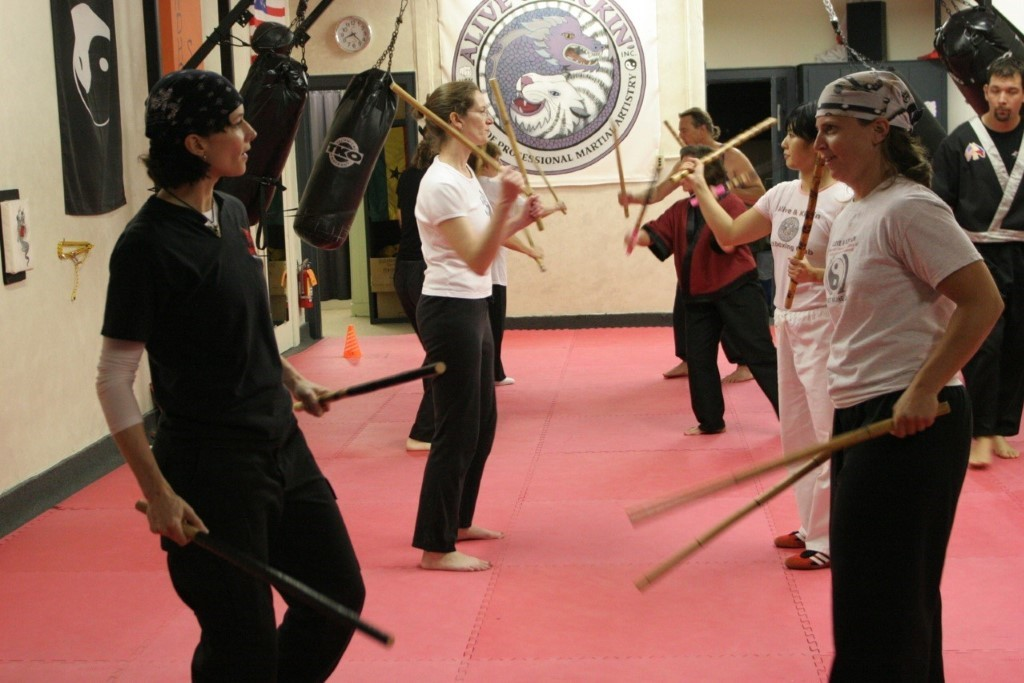baston_e: (642, 404, 941, 526), (140, 503, 383, 644), (648, 456, 813, 589), (395, 83, 507, 178), (299, 363, 431, 414), (677, 118, 771, 180), (785, 161, 823, 301), (488, 85, 533, 191), (696, 159, 772, 207), (628, 174, 661, 247), (533, 161, 567, 209), (610, 130, 627, 214), (523, 229, 546, 268), (664, 125, 685, 145)
baston_v: (126, 492, 155, 518), (628, 574, 659, 595), (621, 506, 641, 528), (939, 396, 956, 420), (779, 294, 797, 312), (287, 397, 308, 412), (381, 631, 397, 650), (431, 359, 447, 376), (684, 195, 697, 210), (766, 113, 779, 128), (386, 78, 398, 93), (487, 74, 498, 85), (667, 173, 678, 184), (610, 123, 620, 133), (525, 188, 534, 199), (623, 248, 635, 256), (661, 118, 669, 128), (538, 224, 546, 232), (540, 265, 547, 273), (623, 211, 630, 219), (562, 209, 569, 216)
